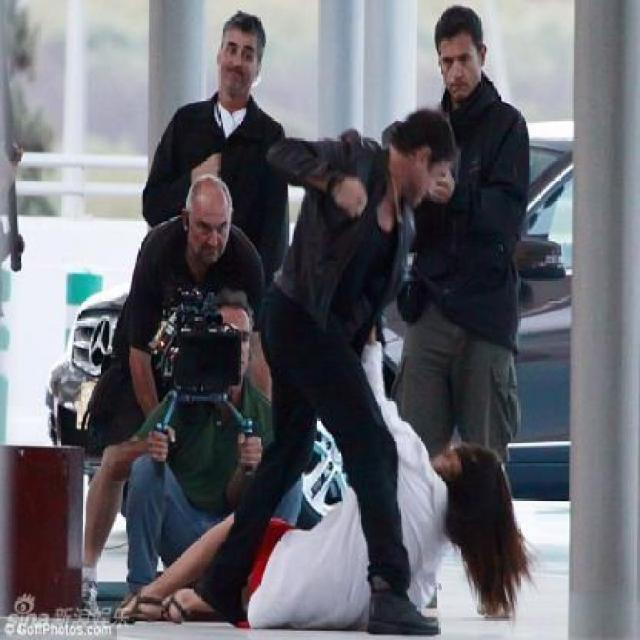fall: (102, 303, 542, 611)
